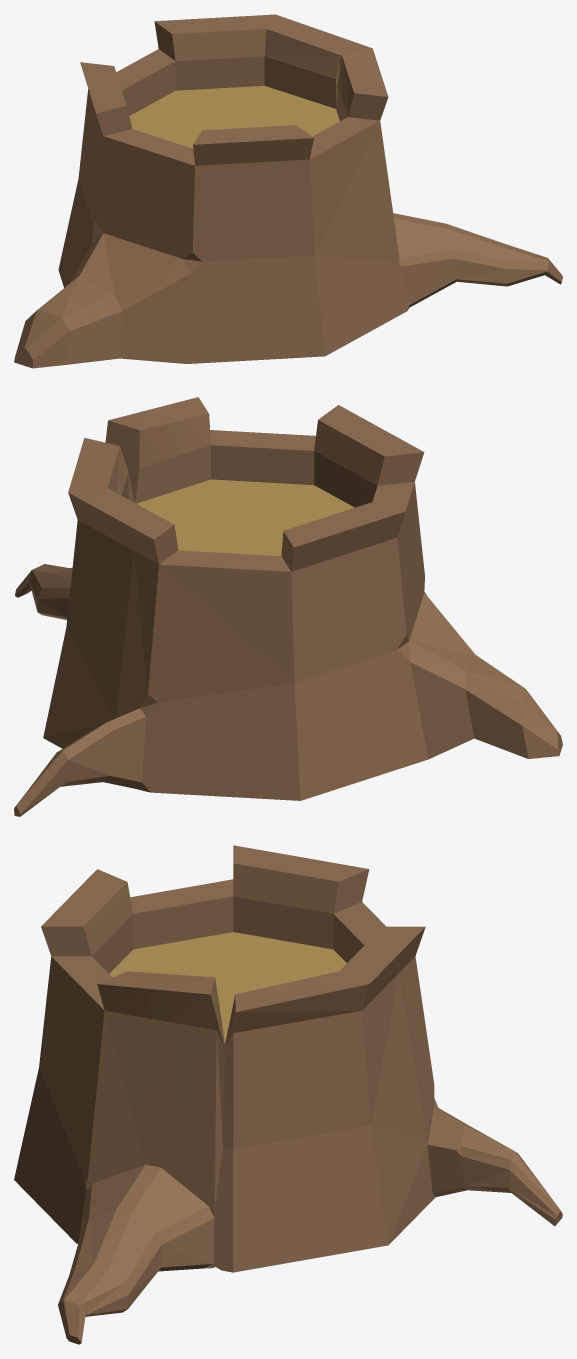
Rendered from trunk.fbx.
The picture shows the model from 3 angles, top to bottom: view 1: azimuth 30°, elevation 25°; view 2: azimuth 150°, elevation 25°; view 3: azimuth 270°, elevation 25°; orthographic projection. The views are drawn at different scales.
Parts seen in each view (by area): view 1: trunk; view 2: trunk; view 3: trunk.
Boxes of the visible parts, x1,y1,x2,y2 form: trunk: (14,14,562,368); trunk: (14,397,562,816); trunk: (14,845,562,1344).
Bounding box in the file's own units: 140 × 59.3 × 108.
